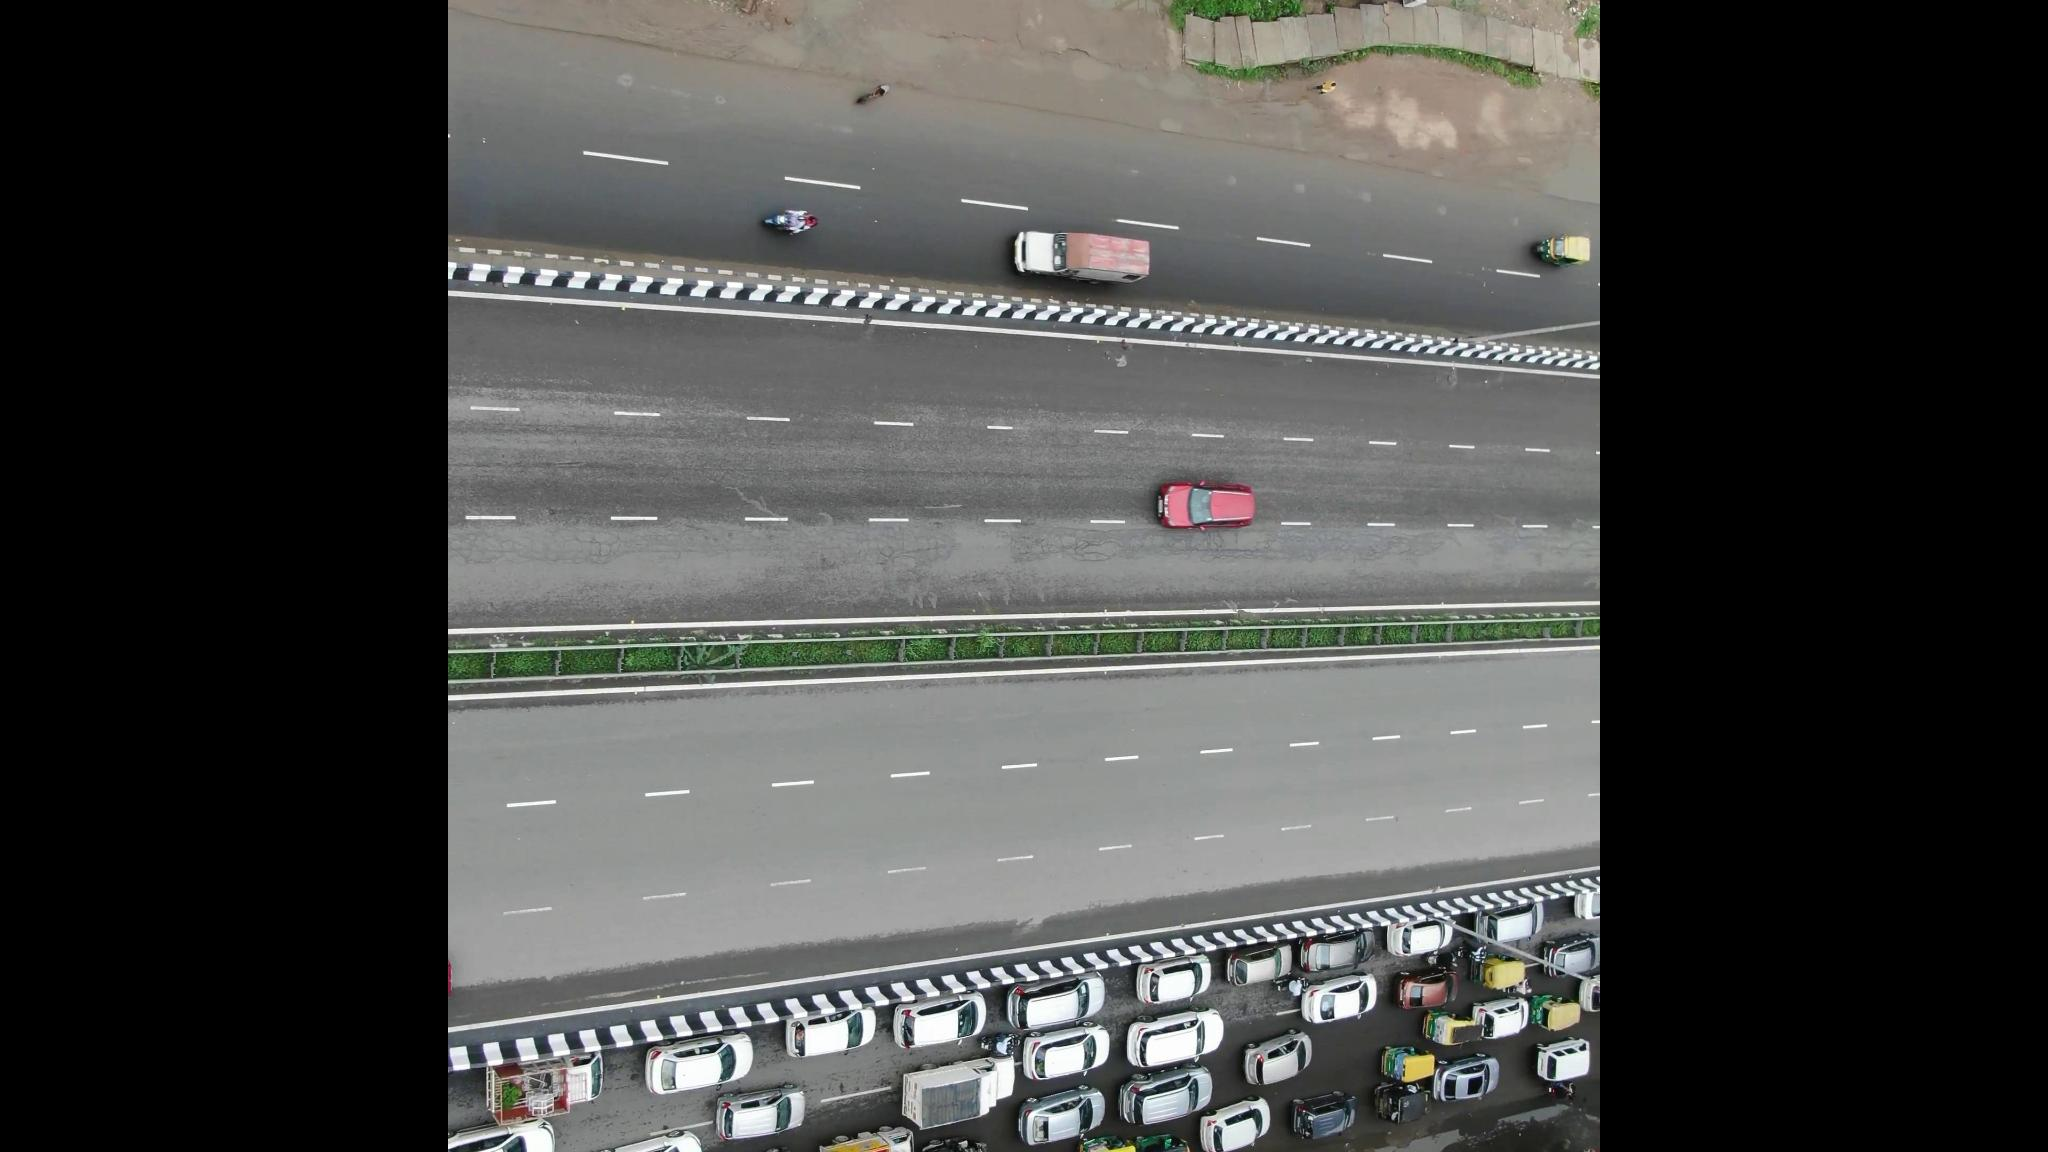Cracks: (681, 497, 935, 605), (969, 492, 1128, 596), (454, 506, 646, 582), (1312, 499, 1464, 592), (1476, 489, 1598, 575), (1162, 523, 1300, 584)
